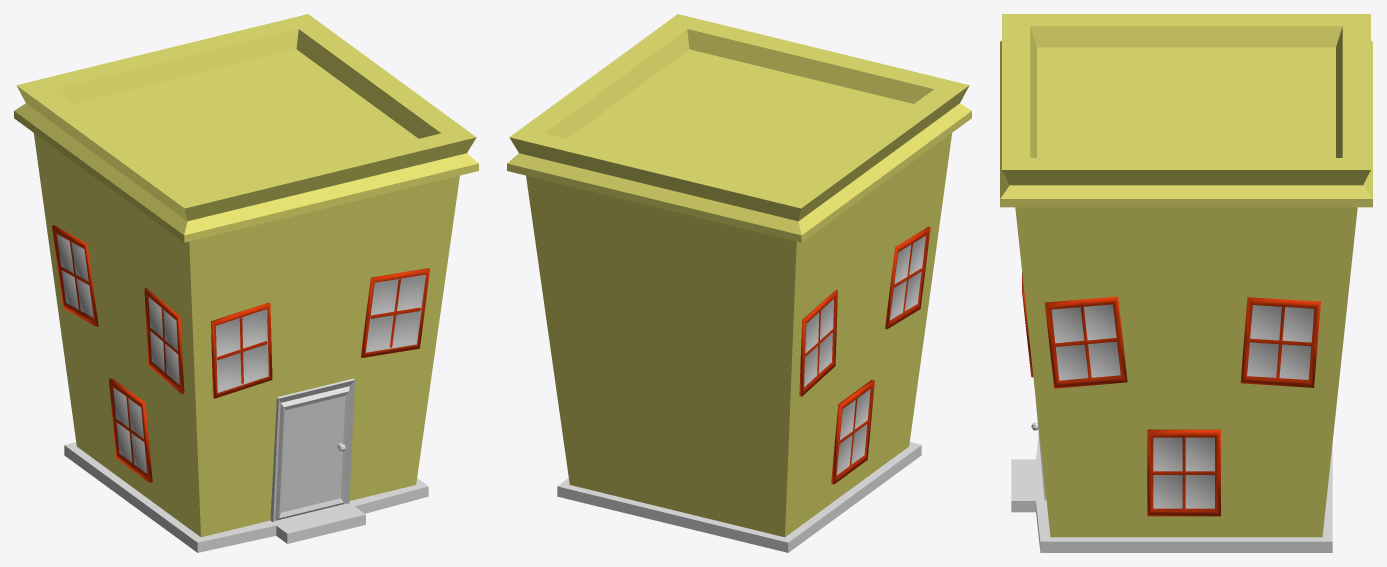
File: YellowBuilding.fbx
The picture shows the model from 3 angles, left to right: view 1: azimuth 30°, elevation 25°; view 2: azimuth 150°, elevation 25°; view 3: azimuth 270°, elevation 25°; orthographic projection. The views are drawn at different scales.
Parts seen in each view (by area): view 1: Cube.001, Cube.002, Cube.007, Cube.011, Cube.012, Cube.009, Cube.008, Cube.010; view 2: Cube.001, Cube.007, Cube.009, Cube.010, Cube.008; view 3: Cube.001, Cube.007, Cube.005, Cube.006, Cube.004.
Part boxes in pixels (x1,y1,x2,y2): Cube.001: (14, 14, 478, 537); Cube.002: (270, 378, 354, 521); Cube.007: (64, 442, 428, 552); Cube.011: (360, 268, 430, 357); Cube.012: (211, 302, 272, 398); Cube.009: (109, 378, 152, 482); Cube.008: (52, 225, 98, 326); Cube.010: (144, 288, 184, 394); Cube.001: (507, 14, 971, 537); Cube.007: (557, 442, 921, 552); Cube.009: (831, 379, 874, 484); Cube.010: (885, 227, 930, 329); Cube.008: (799, 289, 837, 396); Cube.001: (1000, 14, 1372, 537); Cube.007: (1011, 435, 1332, 552); Cube.005: (1147, 429, 1220, 516); Cube.006: (1240, 297, 1320, 387); Cube.004: (1044, 296, 1127, 388).
Bounding box in the file's own units: 276 × 327 × 276.
